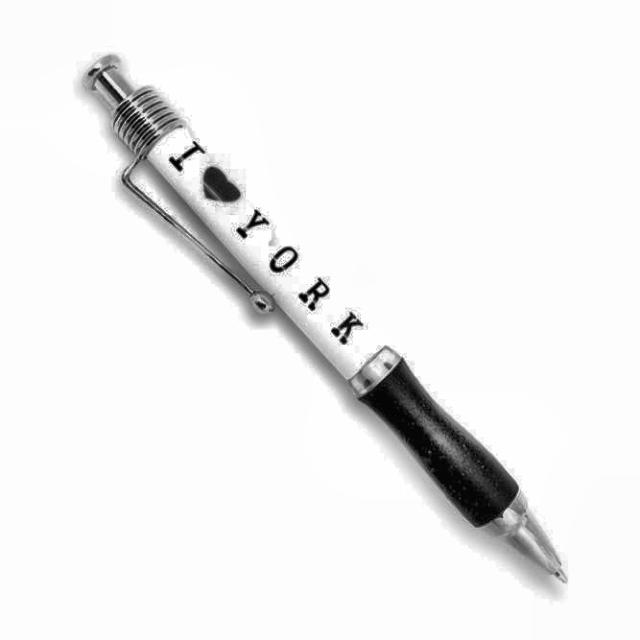Pen: (84, 54, 570, 586)
